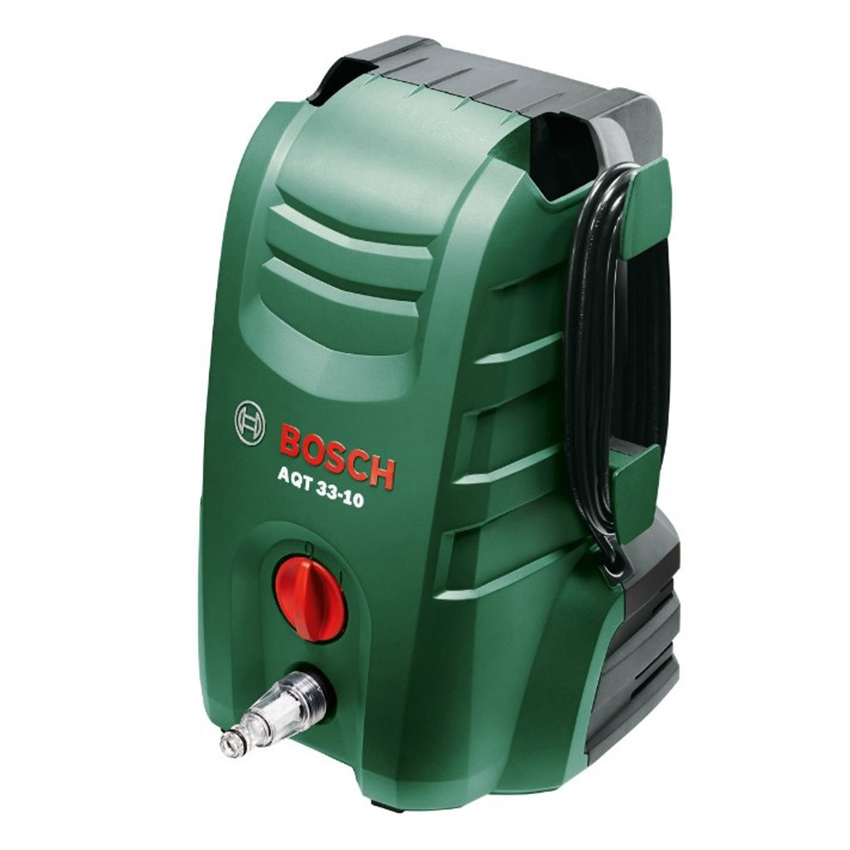Bosch: (275, 418, 406, 494)
